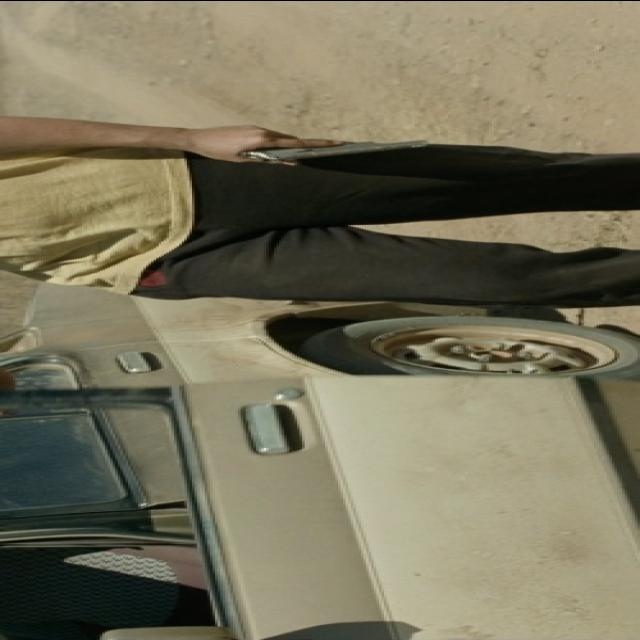weapons: (209, 109, 463, 179)
